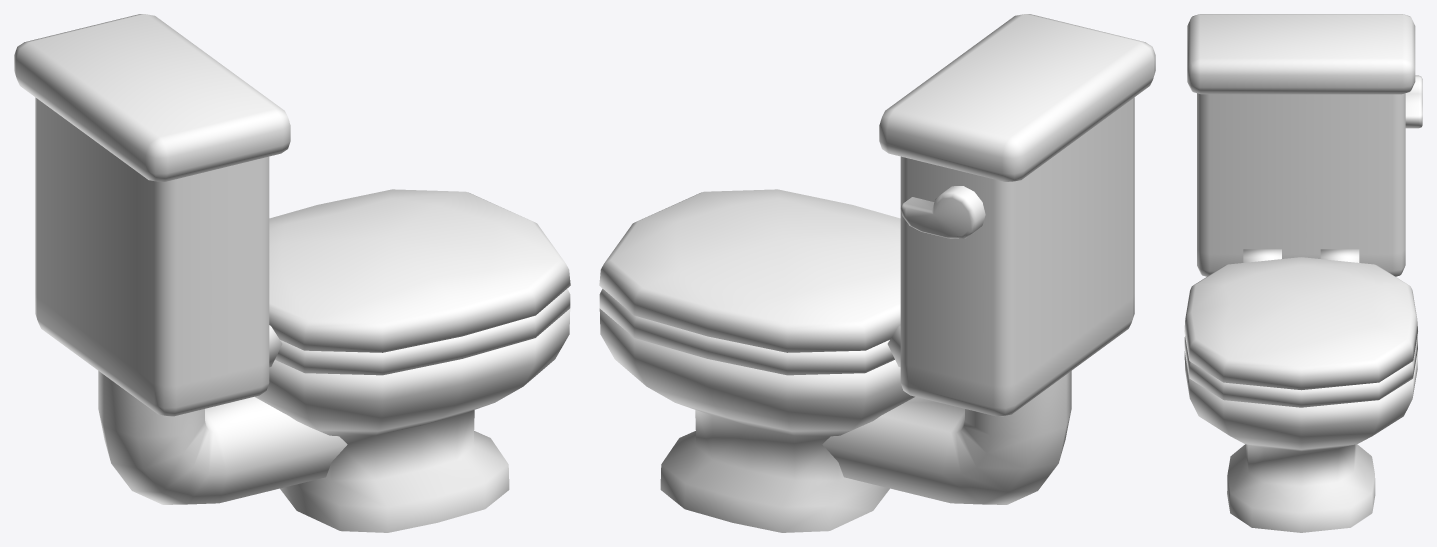
Rendered from Toilet.fbx.
The picture shows the model from 3 angles, left to right: view 1: azimuth 30°, elevation 25°; view 2: azimuth 150°, elevation 25°; view 3: azimuth 270°, elevation 25°; orthographic projection. The views are drawn at different scales.
Parts seen in each view (by area): view 1: Toilet, ToiletLid; view 2: Toilet, ToiletLid, ToiletHandle; view 3: Toilet, ToiletLid, ToiletHandle.
Boxes of the visible parts, <box> form: Toilet: <box>14,14,570,532</box>; ToiletLid: <box>269,189,570,352</box>; Toilet: <box>599,14,1155,532</box>; ToiletLid: <box>599,189,900,352</box>; ToiletHandle: <box>900,186,985,238</box>; Toilet: <box>1184,14,1417,532</box>; ToiletLid: <box>1184,257,1417,390</box>; ToiletHandle: <box>1405,75,1422,128</box>.
Size of the model in its own units: 1.75 by 1.79 by 1.03.
